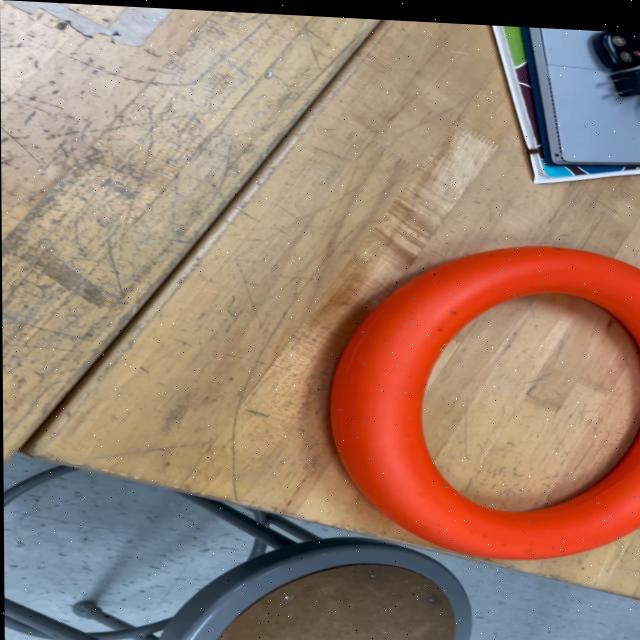note: (325, 228, 640, 560)
